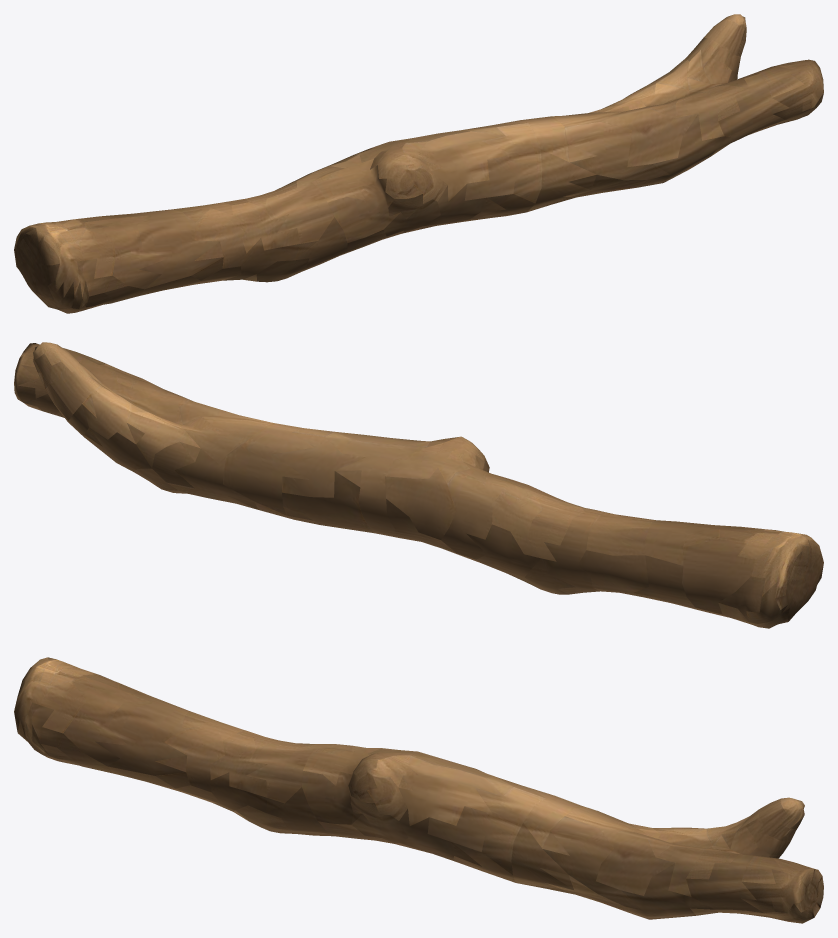
File: driftwood-stick.glb
3 views of the same model, one above another, from view 1: azimuth 30°, elevation 25°; view 2: azimuth 150°, elevation 25°; view 3: azimuth 330°, elevation 25° (orthographic). The views are drawn at different scales.
Visible parts, largest first — view 1: mesh_node; view 2: mesh_node; view 3: mesh_node.
Part boxes in pixels (x1=…): mesh_node: x1=14, y1=14, x2=823, y2=313; mesh_node: x1=14, y1=342, x2=823, y2=628; mesh_node: x1=14, y1=657, x2=823, y2=923.
Size of the model in its own units: 1 by 0.1719 by 0.1279.
Materials: 1 (1 with a texture image).
